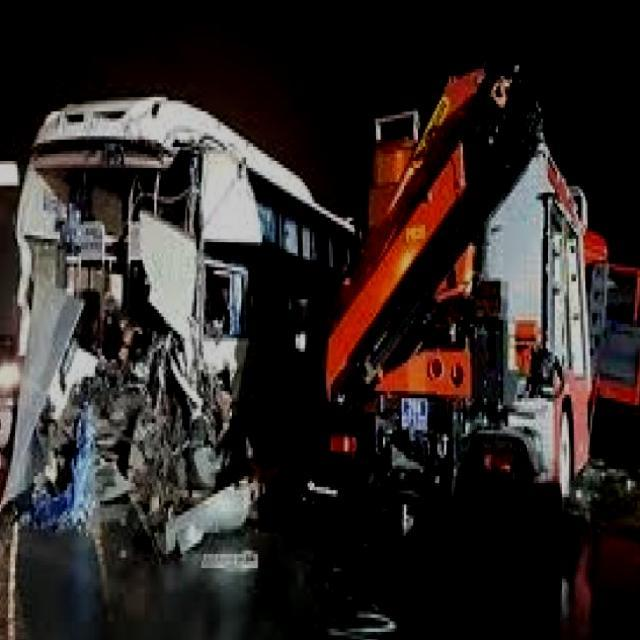accident: (0, 81, 277, 606)
